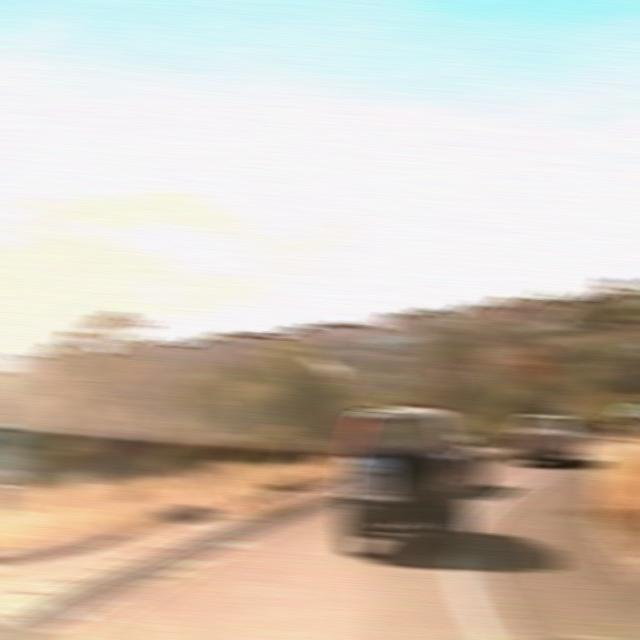yield: (436, 364, 464, 385)
